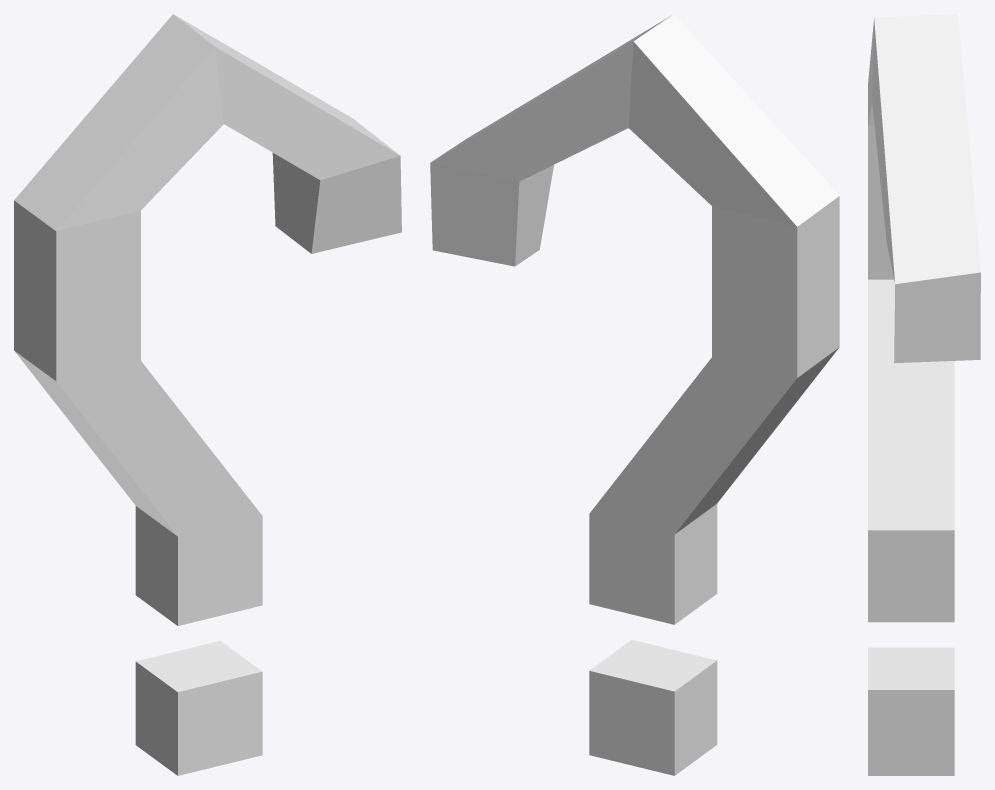
The model's file is questionMark.fbx.
3 renders of one model, left to right at view 1: azimuth 30°, elevation 25°; view 2: azimuth 150°, elevation 25°; view 3: azimuth 270°, elevation 25°, orthographic. The views are drawn at different scales.
Visible parts, largest first — view 1: Plane; view 2: Plane; view 3: Plane.
Boxes of the visible parts, x1=… form: Plane: x1=14, y1=14, x2=401, y2=775; Plane: x1=430, y1=14, x2=839, y2=775; Plane: x1=868, y1=14, x2=980, y2=775.
Size of the model in its own units: 1.25 by 2.39 by 0.3312.
1 material, 1 textured.
